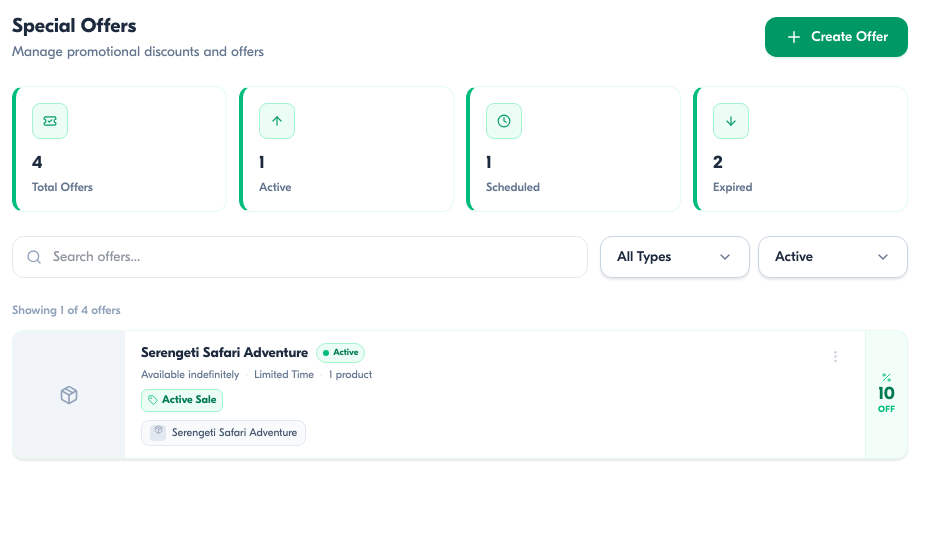
Scenario: SpecialOffersListPage status filter › reports a genuine no-match for a search, and Clear returns to Active
expect the text "Active Sale" is shown: met, box 162,392 -> 216,408
In the field with placeholder "Search offers...": (300, 257) 12,236 -> 588,278, type "zzzz"
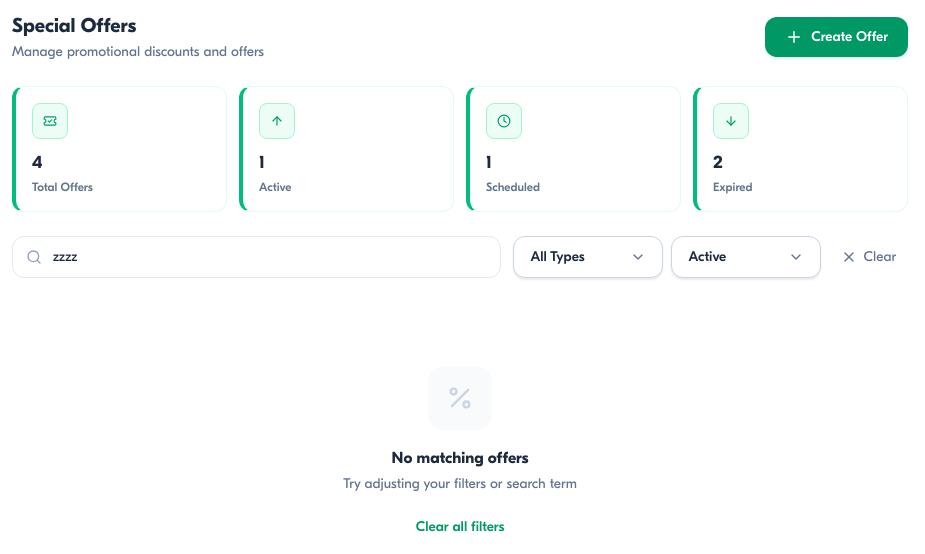
expect the heading "No matching offers" is shown: met, box 392,449 -> 528,467
Click the button "Clear all filters": click(460, 527) 416,517 -> 504,537
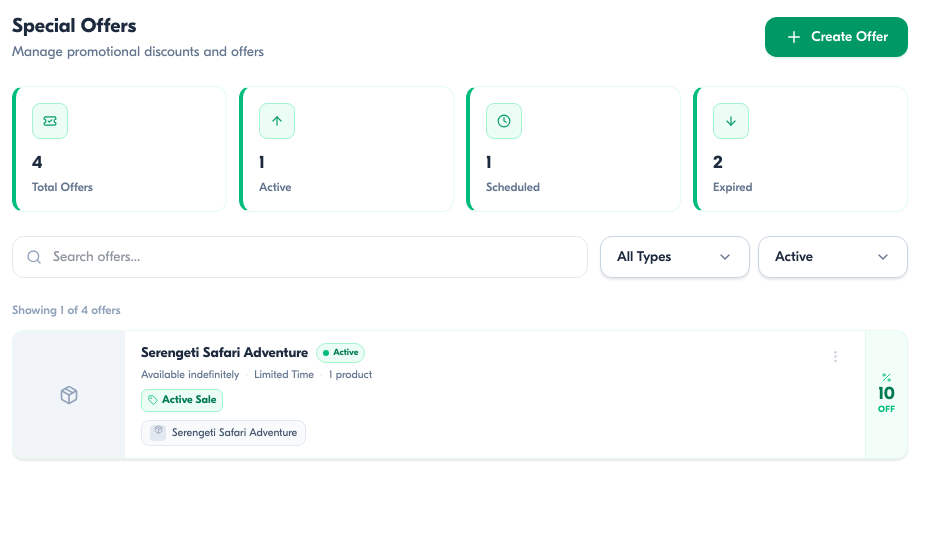
expect the text "Active Sale" is shown: met, box 162,392 -> 216,408
expect the button "Clear" is gone: met
